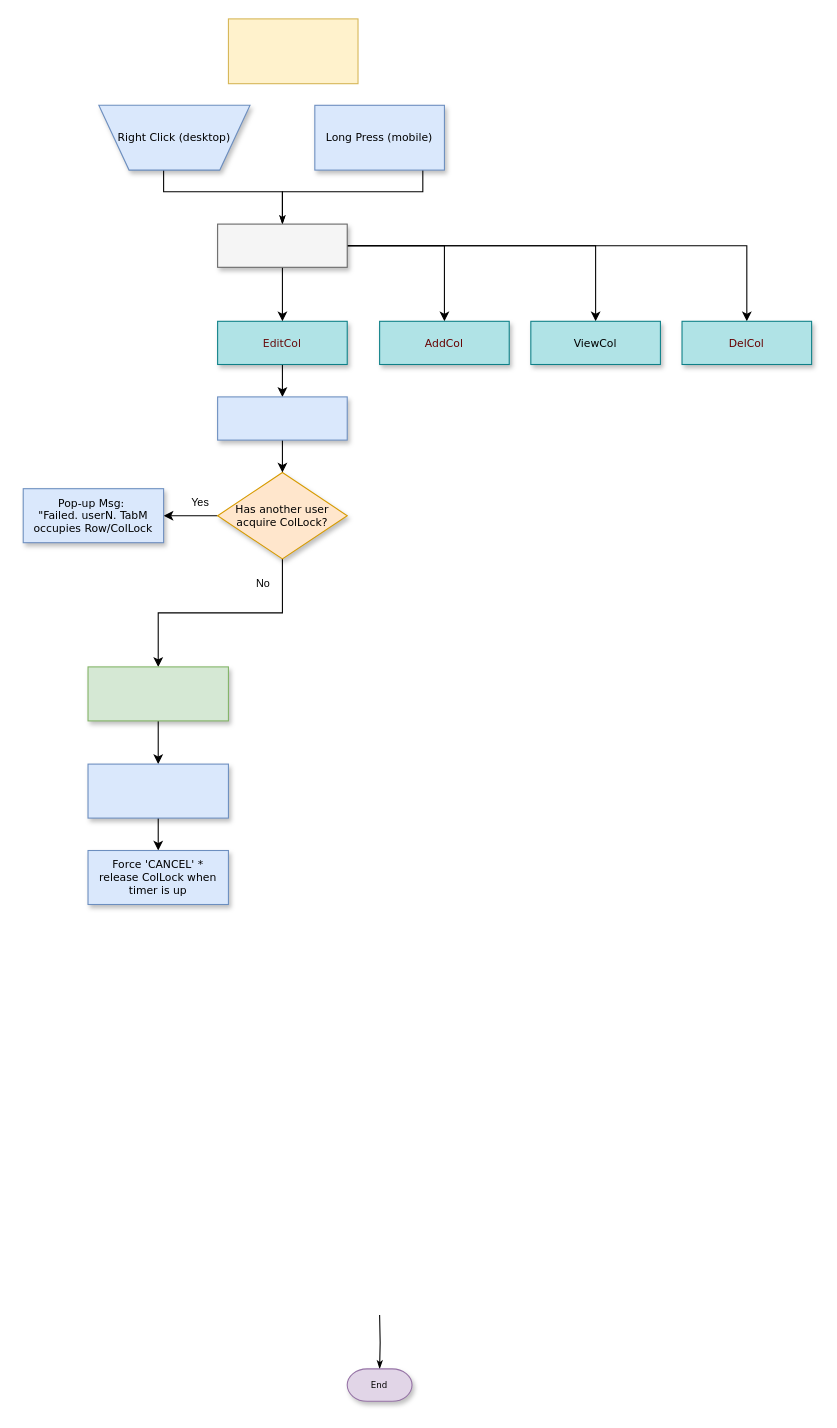
Some shapes in this 837 by 1428 pixel diagram are drawn without their labels. Each missing label, with the centre of its shape:
"Acquiring ColLock" goes at pixel 283 420.
"Change ColLock state to Acquired" goes at pixel 159 695.
"Context Menu 1" goes at pixel 292 51.
"Display 30 sec-timer inside dialog box" goes at pixel 159 792.
"Pop-up 8 menu items" goes at pixel 283 247.
